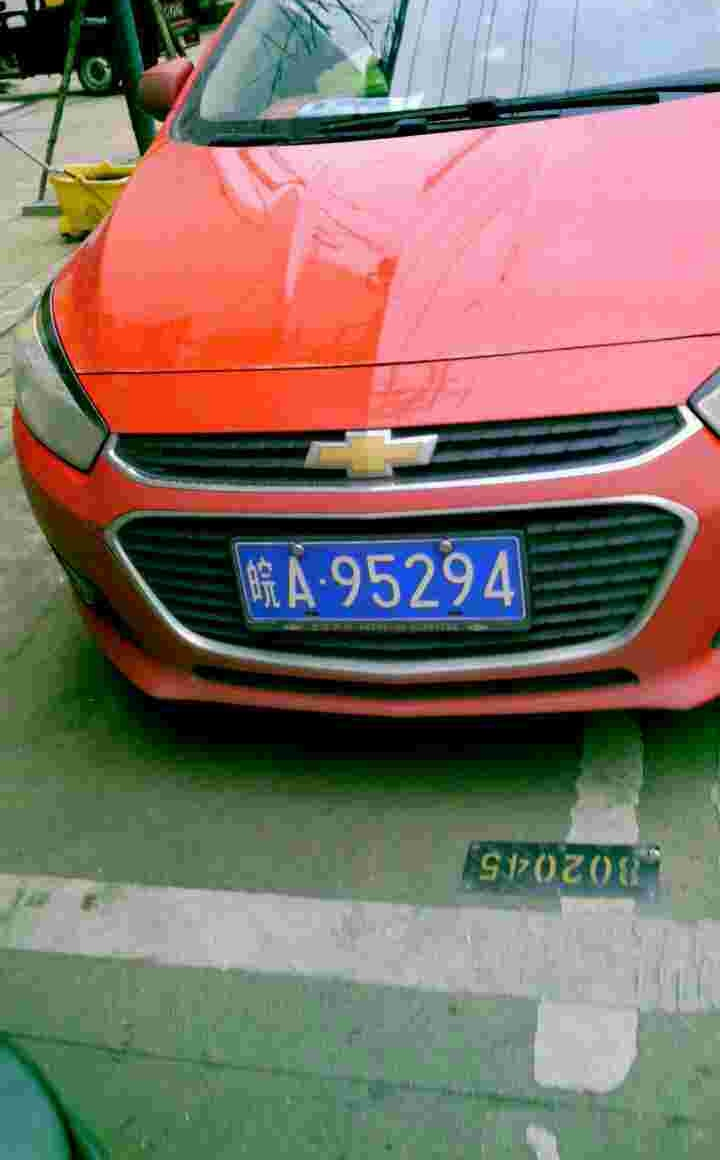license_plate: (233, 537, 530, 629)
